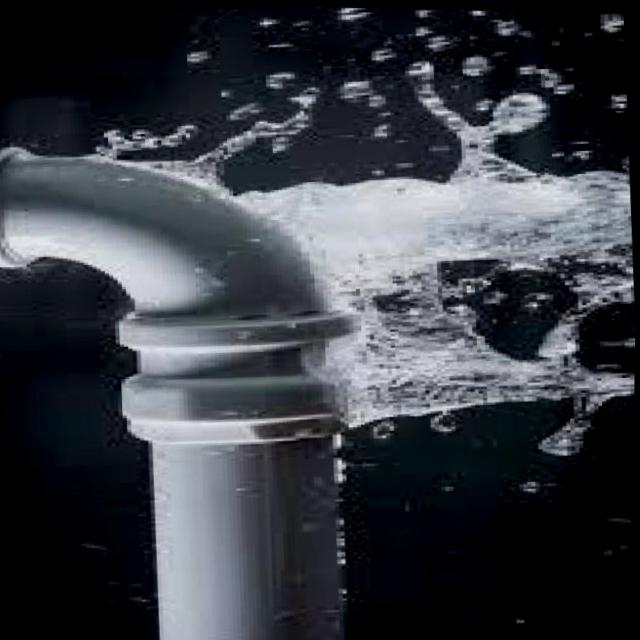leak: (233, 172, 635, 423)
